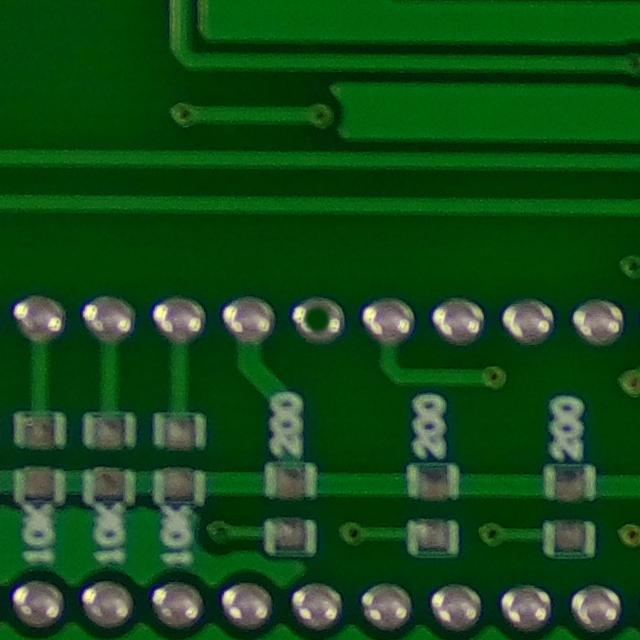missing_hole: (286, 288, 351, 350)
